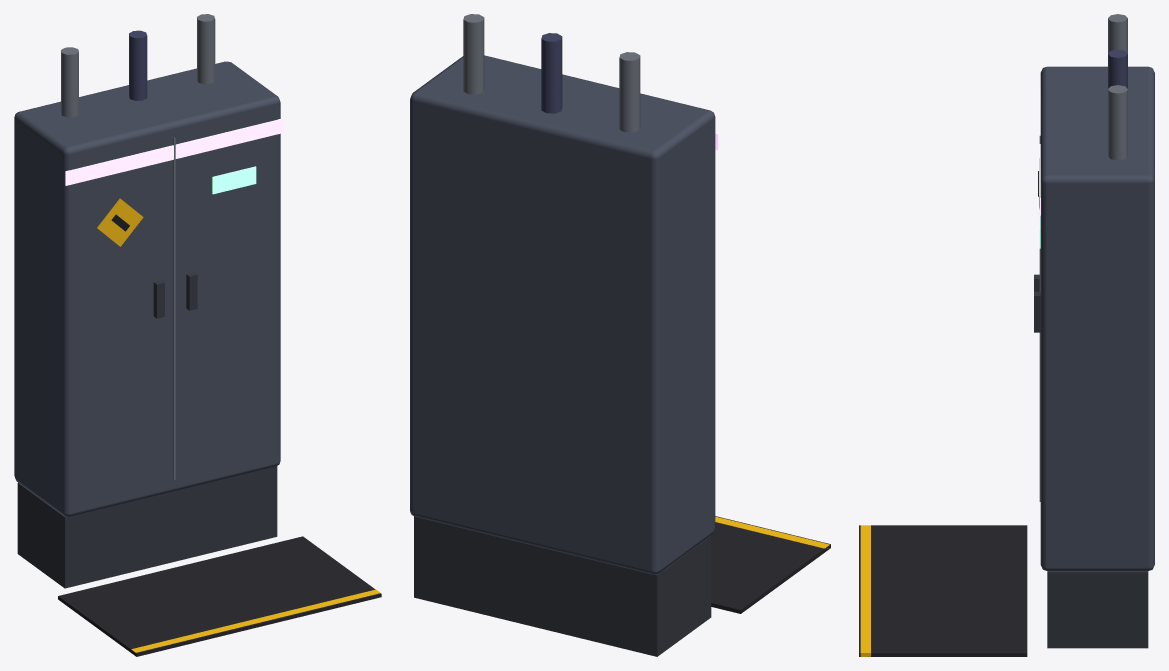
File: station_intake_basis.glb
3 renders of one model, left to right at view 1: azimuth 30°, elevation 25°; view 2: azimuth 150°, elevation 25°; view 3: azimuth 270°, elevation 25°, orthographic. The views are drawn at different scales.
Visible parts, largest first — view 1: station_intake_basis; view 2: station_intake_basis; view 3: station_intake_basis.
Boxes of the visible parts, <box> form: station_intake_basis: <box>14,14,381,656</box>; station_intake_basis: <box>410,14,830,656</box>; station_intake_basis: <box>859,14,1154,656</box>.
Bounding box in the file's own units: 0.9 × 1.77 × 0.88.
